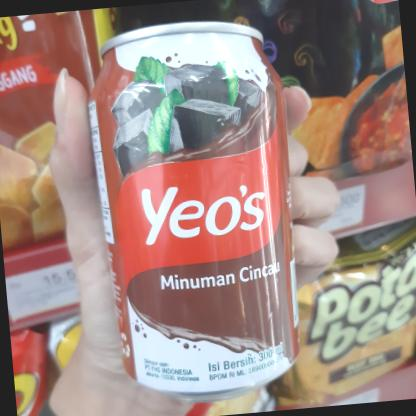alumunium_can: (82, 2, 332, 406)
